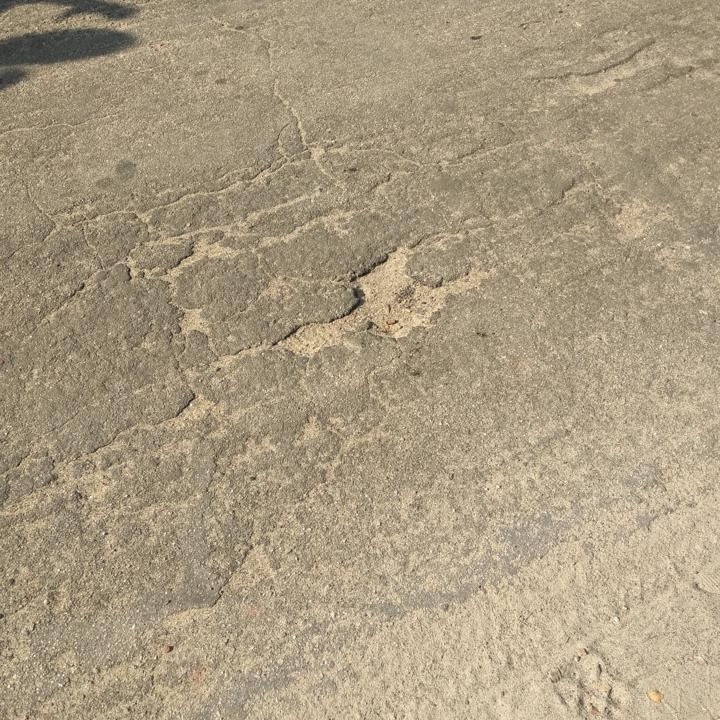pothole: (275, 240, 492, 362)
